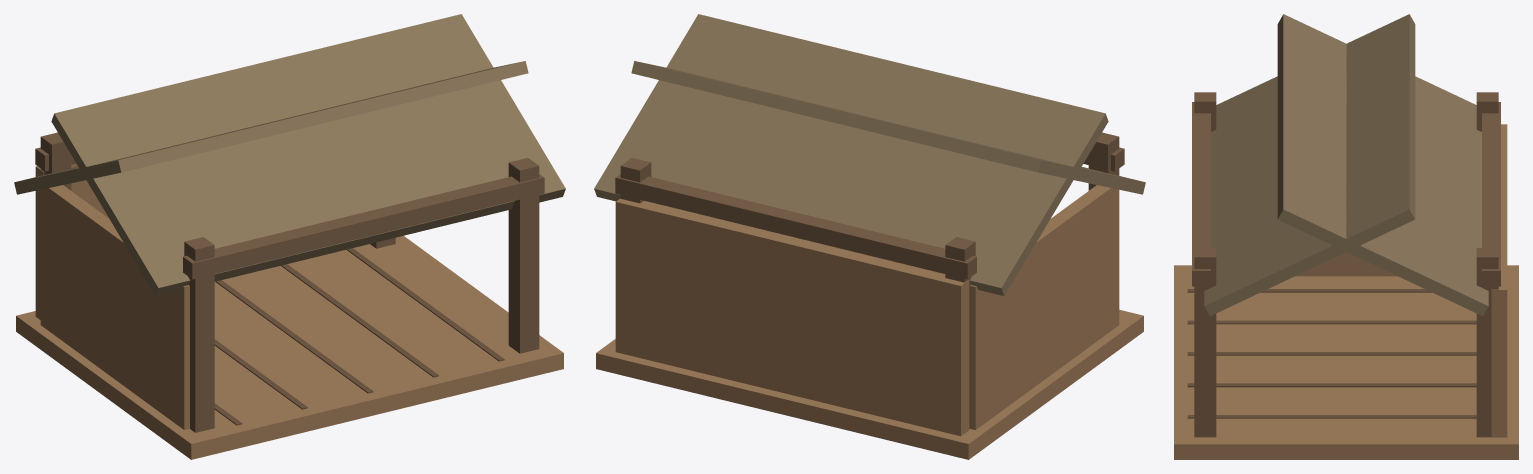
Rendered from shelter_01.gltf.
The picture shows the model from 3 angles, left to right: view 1: azimuth 30°, elevation 25°; view 2: azimuth 150°, elevation 25°; view 3: azimuth 270°, elevation 25°; orthographic projection.
Visible parts, largest first — view 1: RoofL, Floor, SideWall, Post (×3), BeamFront, RoofR, BackWall, FloorPlank_2, FloorPlank_0, FloorPlank_1, FloorPlank_-1; view 2: RoofR, BackWall, SideWall, Floor, BeamBack, RoofL, Post (×3); view 3: Floor, RoofL, RoofR, Post (×4), BackWall, BeamFront, BeamBack, SideWall, FloorPlank_1, FloorPlank_-1, FloorPlank_0, FloorPlank_2 (+1 smaller).
Part boxes in pixels (<box>): RoofL: <box>51,14,565,295</box>; Floor: <box>16,235,563,459</box>; SideWall: <box>40,185,189,429</box>; Post (×3): <box>40,132,539,432</box>; BeamFront: <box>183,174,544,279</box>; RoofR: <box>14,61,528,194</box>; BackWall: <box>35,164,108,319</box>; FloorPlank_2: <box>346,248,504,361</box>; FloorPlank_0: <box>215,280,373,393</box>; FloorPlank_1: <box>281,264,438,377</box>; FloorPlank_-1: <box>214,339,307,409</box>; RoofR: <box>594,14,1108,295</box>; BackWall: <box>615,198,968,436</box>; SideWall: <box>970,185,1119,429</box>; Floor: <box>596,309,1143,459</box>; BeamBack: <box>615,174,976,279</box>; RoofL: <box>631,61,1145,194</box>; Post (×3): <box>620,132,1119,429</box>; Floor: <box>1174,265,1518,459</box>; RoofL: <box>1204,14,1415,316</box>; RoofR: <box>1277,14,1488,316</box>; Post (×4): <box>1194,92,1498,437</box>; BackWall: <box>1491,124,1507,437</box>; BeamFront: <box>1192,102,1210,286</box>; BeamBack: <box>1482,102,1500,286</box>; SideWall: <box>1295,252,1397,276</box>; FloorPlank_1: <box>1187,383,1476,387</box>; FloorPlank_-1: <box>1187,320,1476,324</box>; FloorPlank_0: <box>1187,352,1476,355</box>; FloorPlank_2: <box>1187,415,1476,418</box>.
Bounding box in the file's own units: 5.9 × 3.64 × 4.4.
